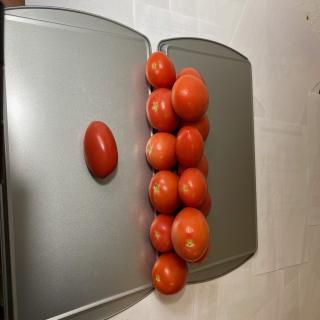Chilli: (144, 51, 212, 296)
Tomato: (171, 207, 210, 262), (83, 120, 118, 178), (171, 75, 209, 122), (152, 252, 188, 296), (146, 88, 180, 132), (148, 170, 181, 214), (175, 125, 204, 167), (178, 168, 208, 208), (146, 132, 177, 170), (145, 51, 176, 88), (149, 214, 175, 252), (179, 114, 210, 142), (177, 67, 206, 85)
